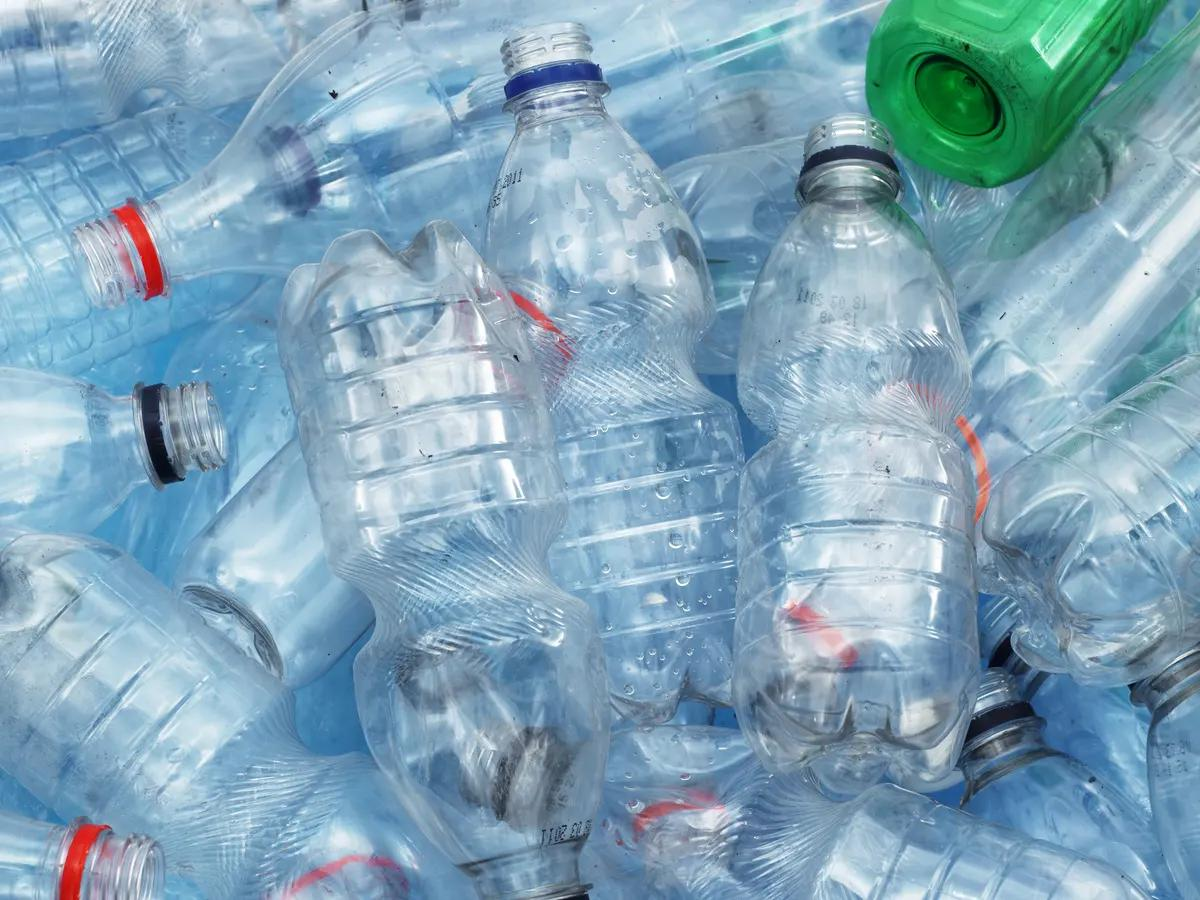plastic: (75, 0, 871, 300), (270, 225, 608, 900), (485, 28, 754, 717), (727, 115, 989, 761), (0, 527, 409, 900), (602, 668, 1200, 900), (992, 340, 1200, 674), (868, 0, 1179, 180), (0, 343, 232, 521)
